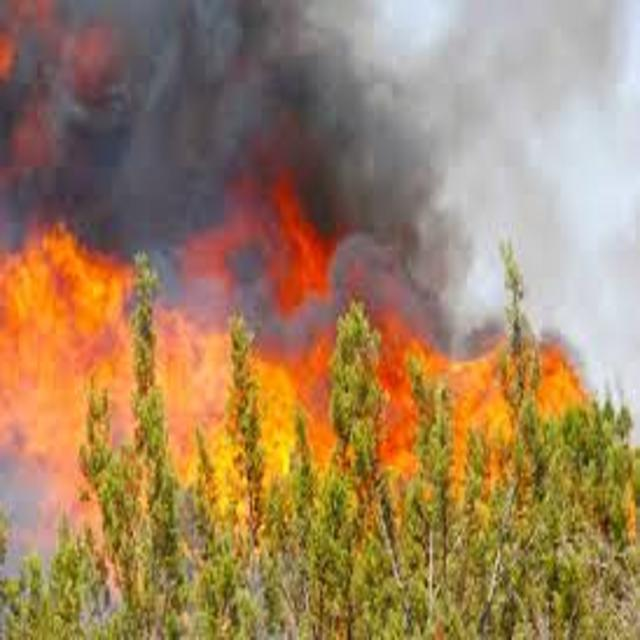Fire: (0, 223, 306, 522), (310, 304, 598, 513)
Smoke: (0, 0, 465, 314)
